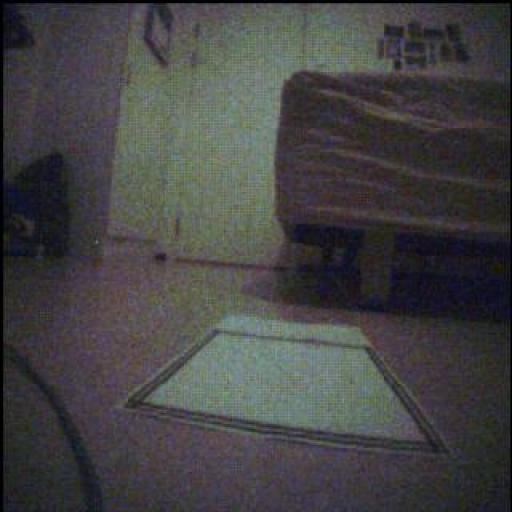pad: (126, 317, 449, 456)
